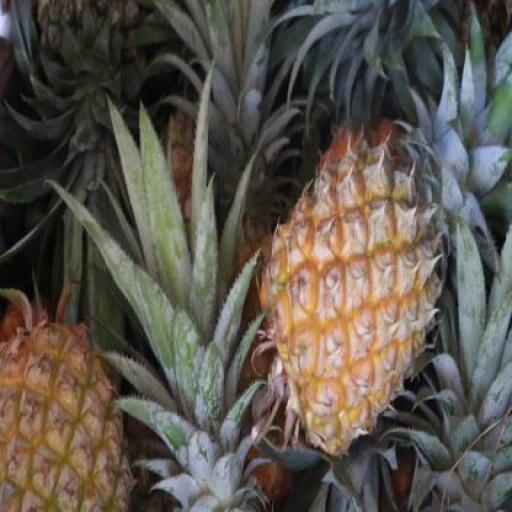------------------------------: (0, 320, 139, 511)
Pineapple - v8 v1: (258, 136, 460, 455)
